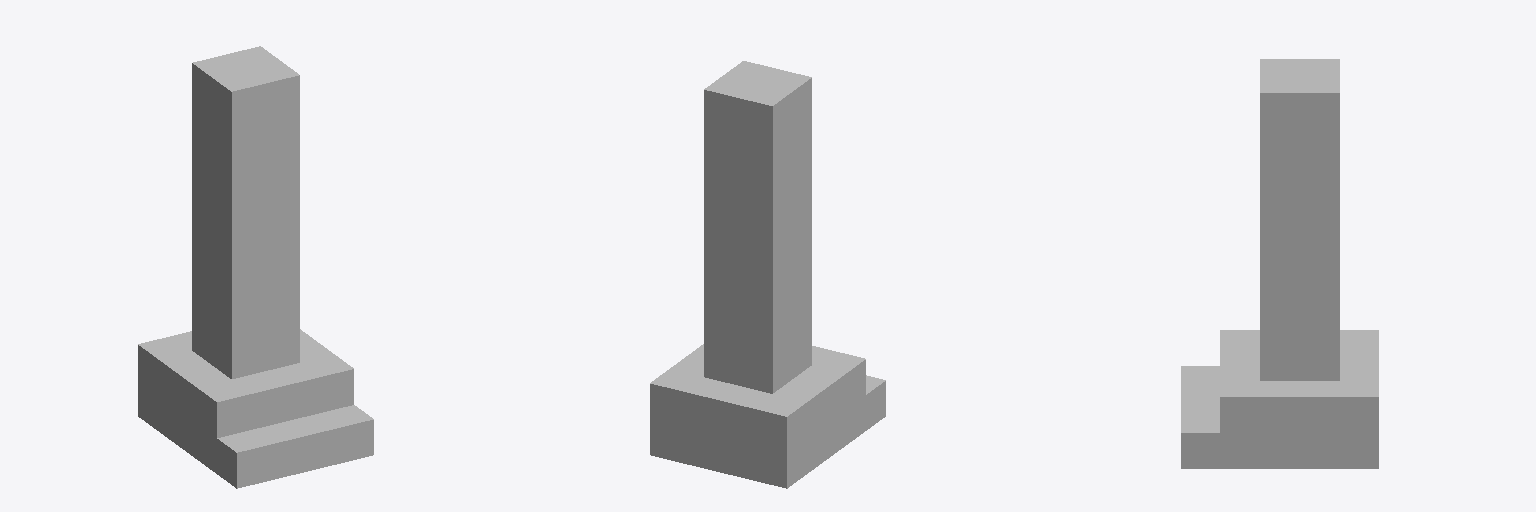
File: Leg.obj
The picture shows the model from 3 angles: view 1: azimuth 30°, elevation 25°; view 2: azimuth 150°, elevation 25°; view 3: azimuth 270°, elevation 25°; orthographic projection.
Visible parts, largest first — view 1: object 1; view 2: object 1; view 3: object 1.
Part boxes in pixels (x1,y1,x2,y2): object 1: (138, 46, 373, 488); object 1: (650, 61, 885, 488); object 1: (1181, 59, 1378, 468).
Size of the model in its own units: 0.4 by 1 by 0.5.